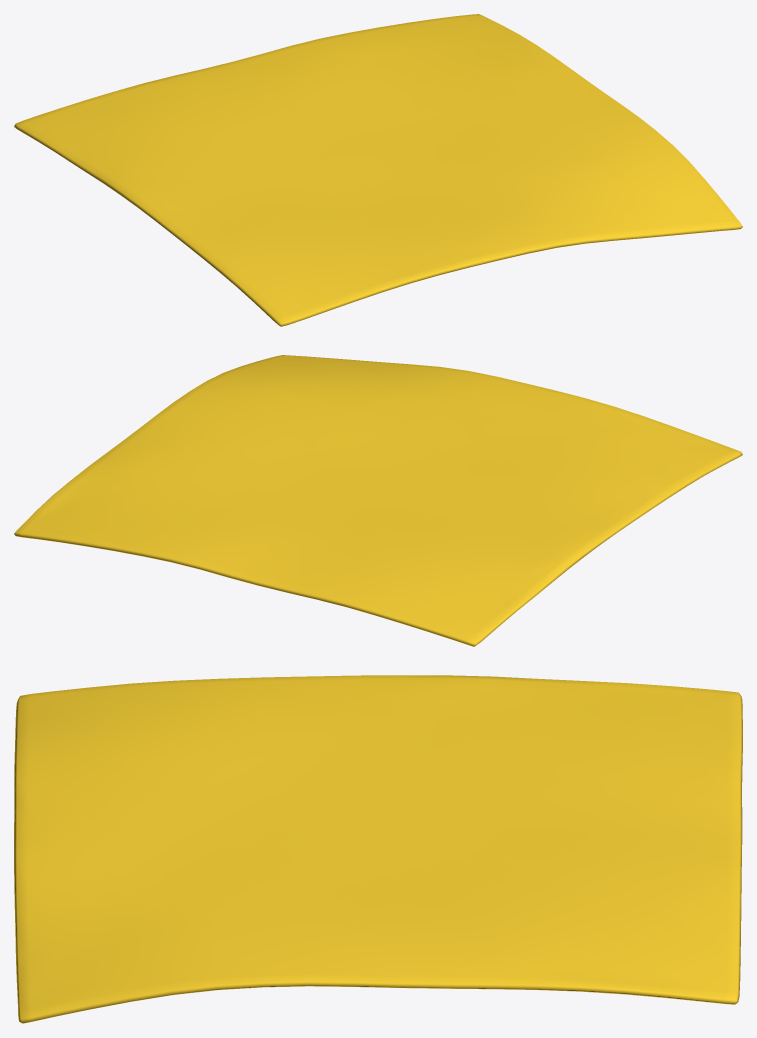
Rendered from CheddarFlat_Visual.fbx.
3 views of the same model, one above another, from view 1: azimuth 30°, elevation 25°; view 2: azimuth 150°, elevation 25°; view 3: azimuth 270°, elevation 25° (orthographic). The views are drawn at different scales.
Parts seen in each view (by area): view 1: Cheddar 4; view 2: Cheddar 4; view 3: Cheddar 4.
Part boxes in pixels (x1=…): Cheddar 4: x1=14, y1=14, x2=742, y2=326; Cheddar 4: x1=14, y1=355, x2=742, y2=646; Cheddar 4: x1=14, y1=675, x2=742, y2=1023.
Size of the model in its own units: 16.42 by 1.24 by 16.4.
